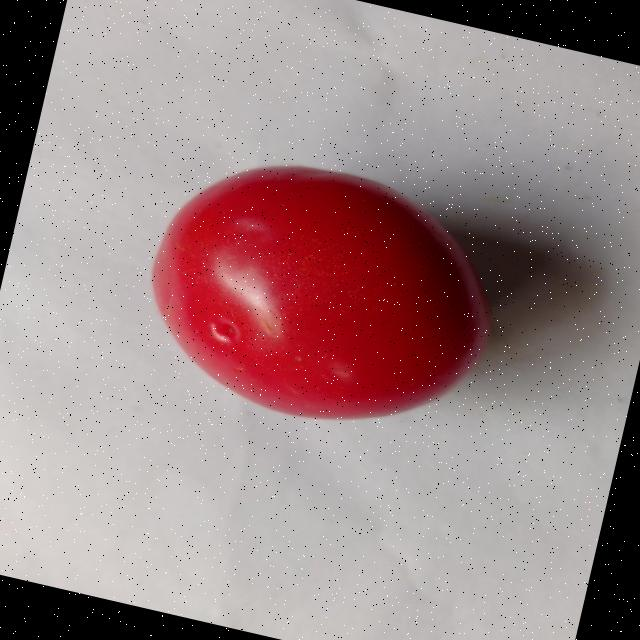Ripe: (122, 132, 524, 458)
